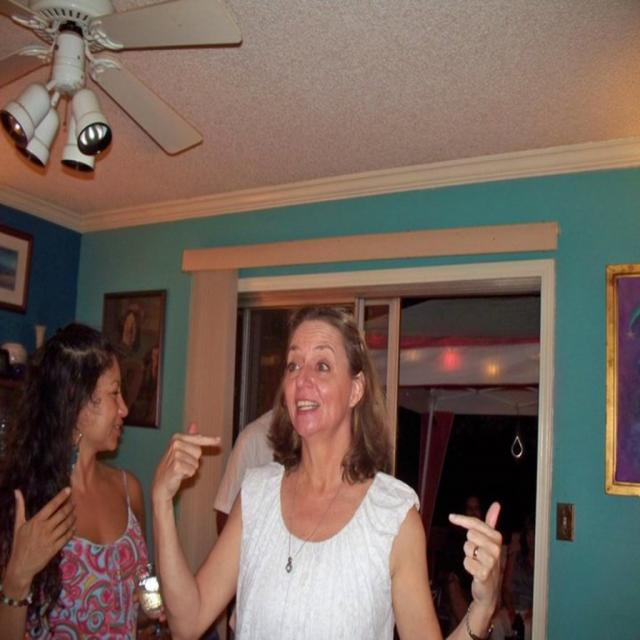fan_off: (0, 0, 249, 156)
